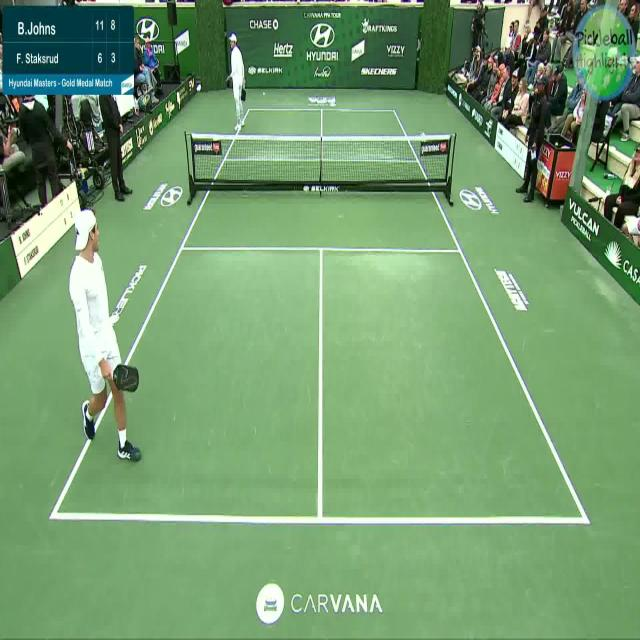ball: (262, 90, 266, 97)
